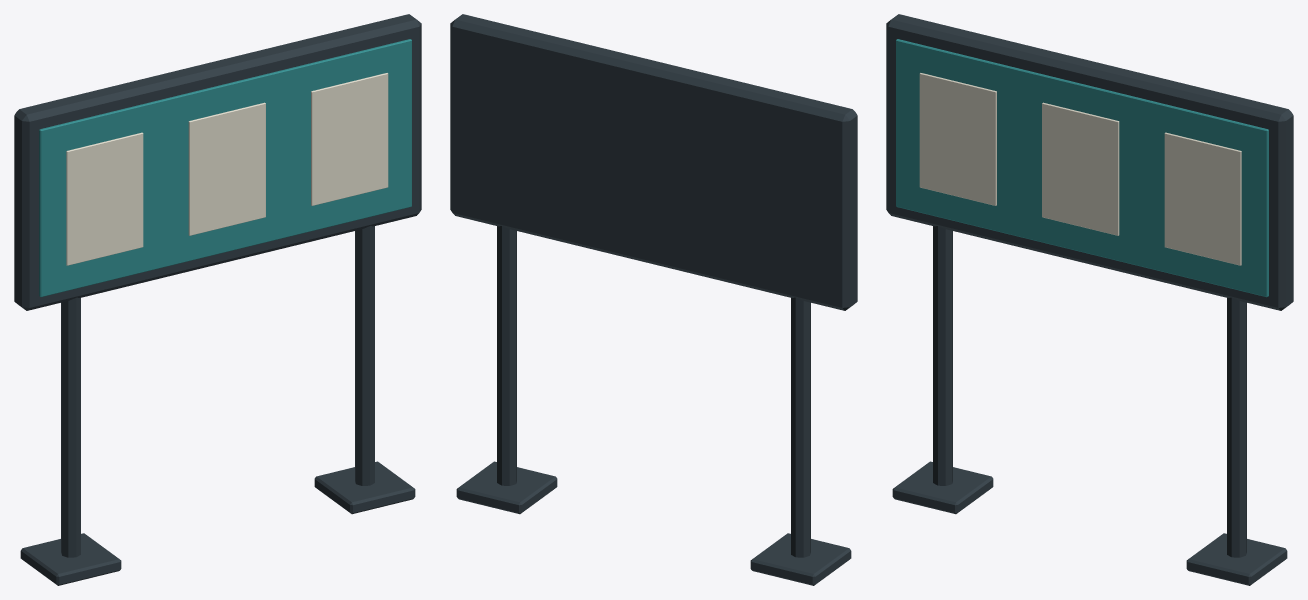
Rendered from Billboard_Small.glb.
The picture shows the model from 3 angles, left to right: view 1: azimuth 30°, elevation 25°; view 2: azimuth 150°, elevation 25°; view 3: azimuth 330°, elevation 25°; orthographic projection.
Parts seen in each view (by area): view 1: Billboard_Small; view 2: Billboard_Small; view 3: Billboard_Small.
Boxes of the visible parts, <box> form: Billboard_Small: <box>14,14,421,585</box>; Billboard_Small: <box>450,14,857,585</box>; Billboard_Small: <box>886,14,1293,585</box>.
Size of the model in its own units: 2.45 by 2.73 by 0.4.
